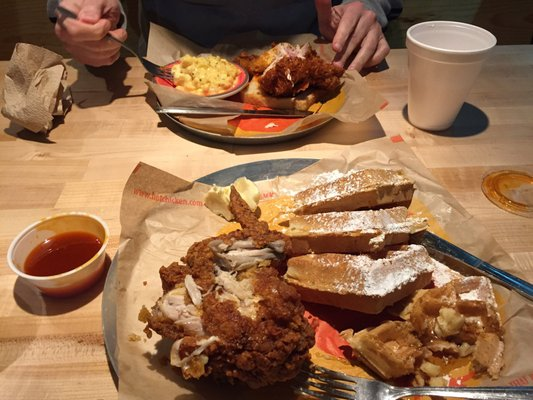pizza: (6, 213, 111, 300)
sandwich: (417, 231, 533, 302)
soup: (238, 38, 347, 113)
sushi: (6, 213, 111, 299)
